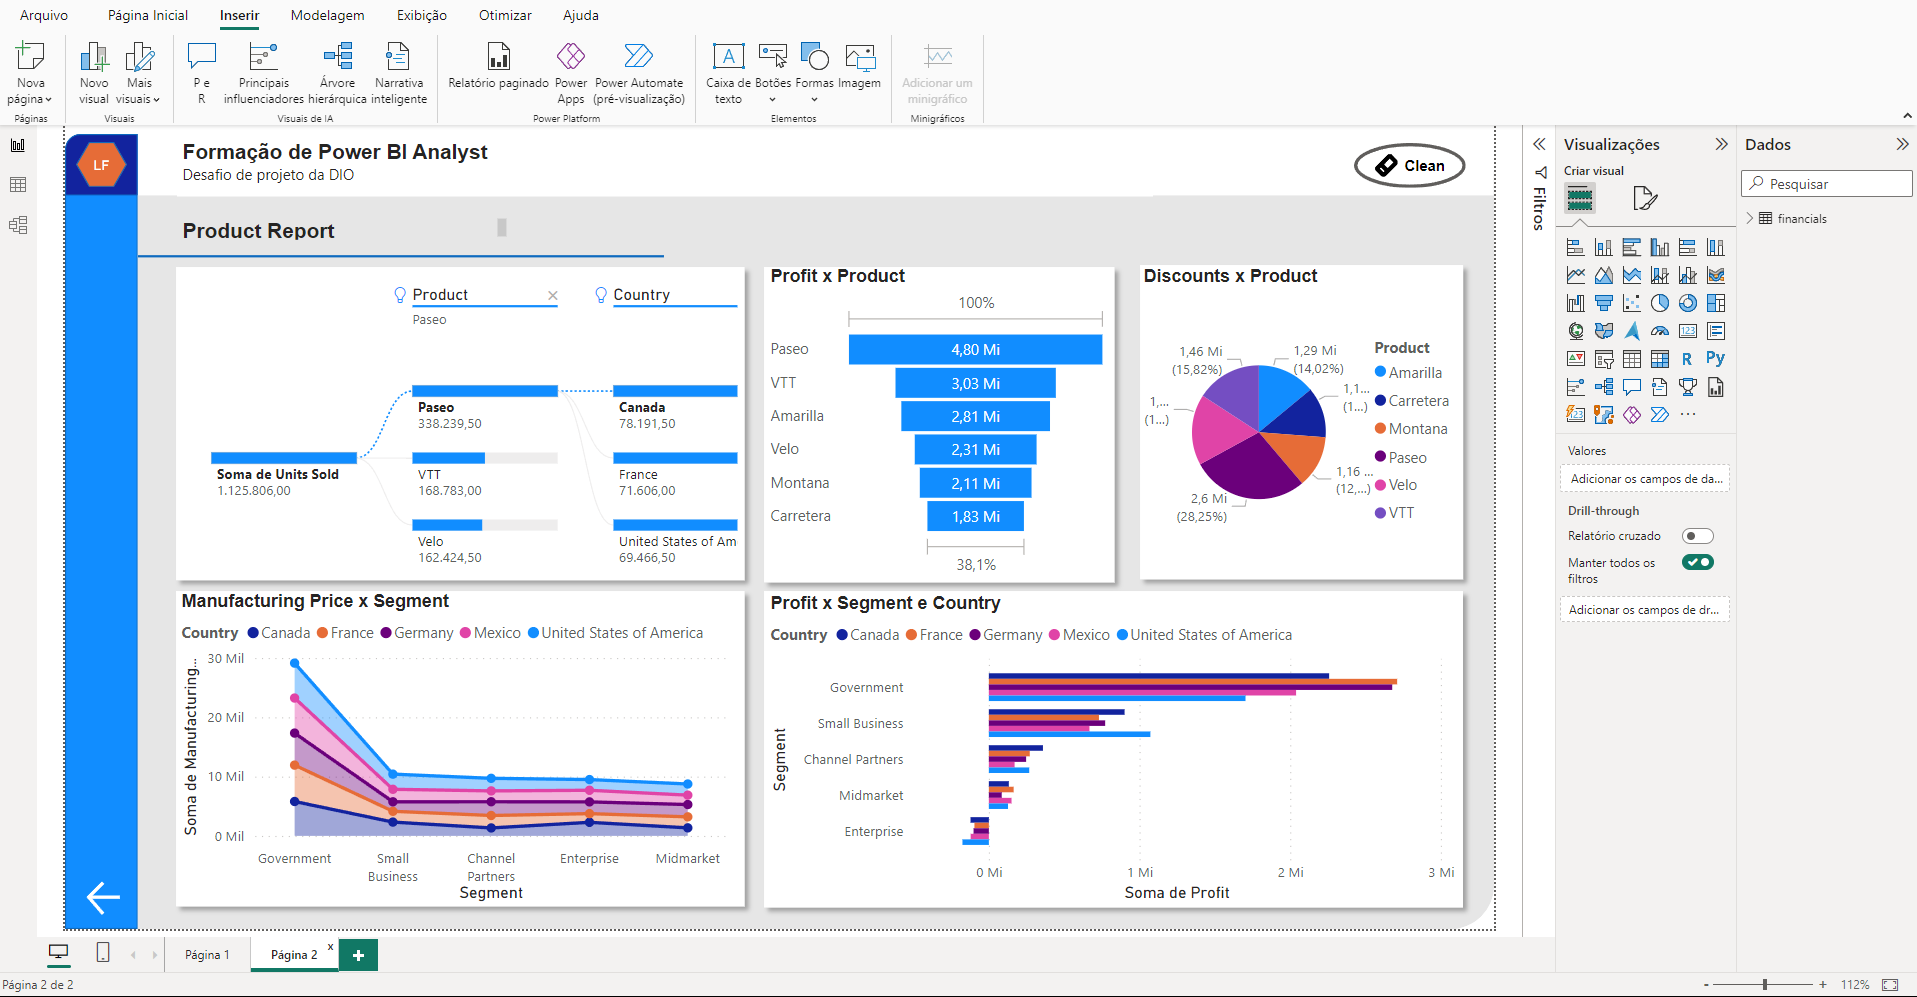

Layout of this report page (visuals, bound fields, positions):
{"tool":"powerbi","page":{"name":"Página 2","canvas":[1280,720],"ordinal":1},"visuals":[{"type":"shape","box":[64.5,78.8,472.2,77.8],"z":0,"group":"g1"},{"type":"shape","box":[0,8,1280,712.4],"z":0},{"type":"textbox","box":[100.1,78.8,300,28.9],"z":1000,"group":"g1"},{"type":"shape","box":[65.6,8.1,1214.4,55.5],"z":1000},{"type":"shape","box":[0,8.1,65.1,711.9],"z":2000},{"type":"actionButton","box":[1154.4,15.7,100.1,40.2],"z":3000},{"type":"shape","box":[0,8.1,65.1,55.2],"z":4000},{"type":"actionButton","title":"Botão - back","box":[14.8,672.5,51.3,39.9],"z":5000},{"type":"textbox","box":[100.3,8,874.2,55.9],"z":6000},{"type":"shape","box":[617.4,117.8,331.8,300.4],"z":7000},{"type":"shape","box":[617.4,408.3,643.9,301.3],"z":8000},{"type":"shape","box":[954.1,116.8,307.2,299.4],"z":9000},{"type":"shape","box":[90.3,408.3,527.1,300.4],"z":10000},{"type":"pieChart","title":"Discounts x Product","fields":{"Y":["financials.Discounts"],"Series":["financials.Product"]},"box":[961,126.6,293.5,280.7],"z":11000},{"type":"stackedAreaChart","title":"Manufacturing Price x Segment","fields":{"Category":["financials.Segment"],"Y":["financials.Manufacturing Price"],"Series":["financials.Country"]},"box":[99.1,417.2,504.5,283.7],"z":12000},{"type":"funnel","title":"Profit x Product","fields":{"Y":["financials.Profit"],"Category":["financials.Product"]},"box":[627.2,126.6,312.1,281.7],"z":13000},{"type":"clusteredBarChart","title":"Profit x Segment e Country","fields":{"Category":["financials.Segment"],"Series":["financials.Country"],"Y":["financials.Profit"]},"box":[627.2,419.1,627.2,281.7],"z":14000},{"type":"shape","box":[65.8,99.1,471.2,36.3],"z":15000},{"type":"group","id":"g1","title":"Title Report","box":[64.5,78.8,471.9,77.9],"z":16000},{"type":"shape","box":[90.3,117.8,527.1,298.4],"z":17000},{"type":"decompositionTreeVisual","fields":{"ExplainBy":["financials.Product","financials.Country"],"Analyze":["financials.Units Sold"]},"box":[101.1,126.6,505.5,280.7],"z":18000},{"type":"shape","box":[9.9,15.2,45.7,40.3],"z":19000}]}

Visuals, with their boxes on the page's 1280x720 design canvas (x1, y1, x2, y2). These are canvas units, not pixel positions in the 1917x997 screenshot, which may show the page scaled, cropped or inside an application window:
shape: select_region(64, 79, 537, 157)
shape: select_region(0, 8, 1280, 720)
textbox: select_region(100, 79, 400, 108)
shape: select_region(66, 8, 1280, 64)
shape: select_region(0, 8, 65, 720)
actionButton: select_region(1154, 16, 1254, 56)
shape: select_region(0, 8, 65, 63)
"Botão - back" actionButton: select_region(15, 672, 66, 712)
textbox: select_region(100, 8, 974, 64)
shape: select_region(617, 118, 949, 418)
shape: select_region(617, 408, 1261, 710)
shape: select_region(954, 117, 1261, 416)
shape: select_region(90, 408, 617, 709)
"Discounts x Product" pieChart: select_region(961, 127, 1254, 407)
"Manufacturing Price x Segment" stackedAreaChart: select_region(99, 417, 604, 701)
"Profit x Product" funnel: select_region(627, 127, 939, 408)
"Profit x Segment e Country" clusteredBarChart: select_region(627, 419, 1254, 701)
shape: select_region(66, 99, 537, 135)
"Title Report" group: select_region(64, 79, 536, 157)
shape: select_region(90, 118, 617, 416)
decompositionTreeVisual - financials.Product x financials.Country: select_region(101, 127, 607, 407)
shape: select_region(10, 15, 56, 56)
